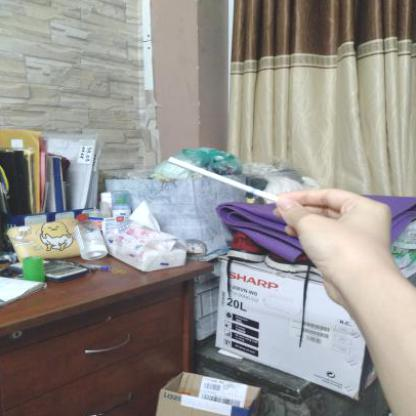cigarette: (166, 155, 280, 202)
